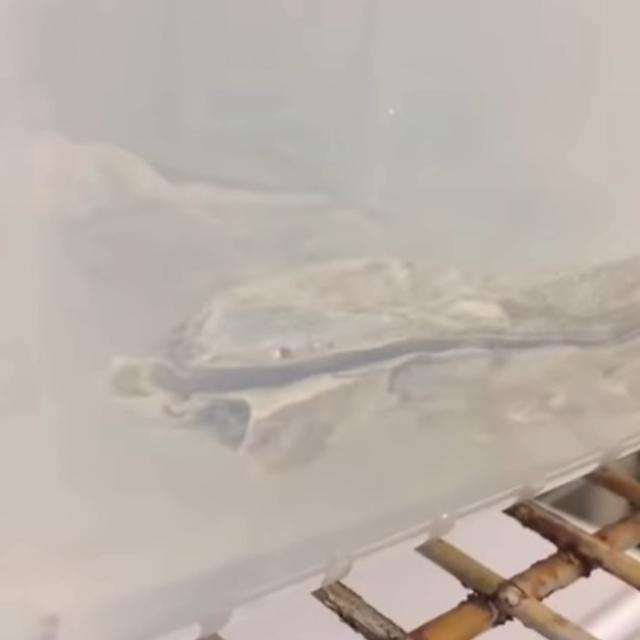Oyster-Indeterminate: (35, 128, 340, 250)
Oyster-Open: (103, 259, 640, 475)
